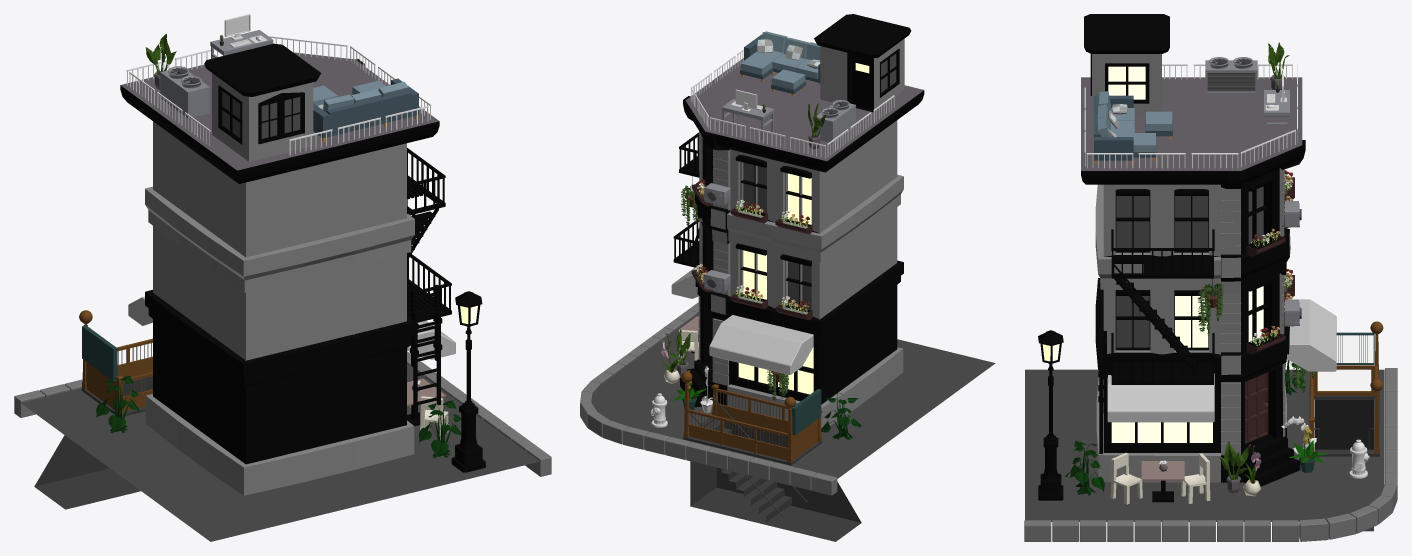
3 views of the same model, side by side, from view 1: azimuth 30°, elevation 25°; view 2: azimuth 150°, elevation 25°; view 3: azimuth 270°, elevation 25° (orthographic). The views are drawn at different scales.
Parts seen in each view (by area): view 1: building, Plane, cielingBuilding, Plane.006, couch, Plane.001, deck001, Cube.004, cielinVernt00.001, Plane.013, deckrailing00.002, Cube.005 (+12 smaller); view 2: building, Plane, cielingBuilding, Plane.001, Plane.006, cover.001, Plane.013, couch, building.001, Plane.005, cover.006, group1646369301.006 (+11 smaller); view 3: building, Plane, Plane.001, cielingBuilding, deck001, building.001, cover.004, couch, Plane.006, cover.001, door, Cube.004 (+24 smaller).
Part boxes in pixels (<box>): building: <box>120,52,439,495</box>; Plane: <box>21,364,539,541</box>; cielingBuilding: <box>204,43,320,161</box>; Plane.006: <box>34,376,152,509</box>; couch: <box>313,78,418,141</box>; Plane.001: <box>14,351,551,476</box>; deck001: <box>407,148,451,322</box>; Cube.004: <box>451,326,485,472</box>; cielinVernt00.001: <box>160,66,209,118</box>; Plane.013: <box>79,310,152,414</box>; deckrailing00.002: <box>413,306,440,410</box>; Cube.005: <box>82,325,117,381</box>; building: <box>680,58,924,428</box>; Plane: <box>591,313,995,478</box>; cielingBuilding: <box>814,14,911,112</box>; Plane.001: <box>580,302,837,495</box>; Plane.006: <box>690,421,861,541</box>; cover.001: <box>709,315,813,374</box>; Plane.013: <box>681,371,822,462</box>; couch: <box>740,31,820,96</box>; building.001: <box>698,131,729,385</box>; Plane.005: <box>706,419,791,522</box>; cover.006: <box>691,183,812,319</box>; group1646369301.006: <box>695,179,809,313</box>; building: <box>1081,77,1305,486</box>; Plane: <box>1025,369,1384,521</box>; Plane.001: <box>1024,368,1397,541</box>; cielingBuilding: <box>1084,14,1169,115</box>; deck001: <box>1111,229,1214,384</box>; building.001: <box>1221,169,1285,455</box>; cover.004: <box>1107,373,1214,422</box>; couch: <box>1094,91,1172,164</box>; Plane.006: <box>1315,399,1373,531</box>; cover.001: <box>1287,299,1336,371</box>; door: <box>1245,372,1268,443</box>; Cube.004: <box>1038,364,1063,500</box>.
Size of the model in its own units: 12.71 by 17.44 by 12.71.
